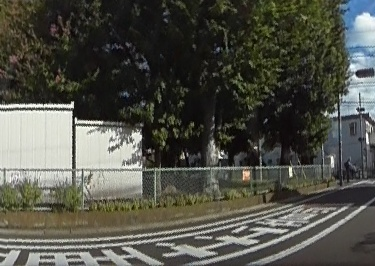person: (341, 155, 356, 180)
